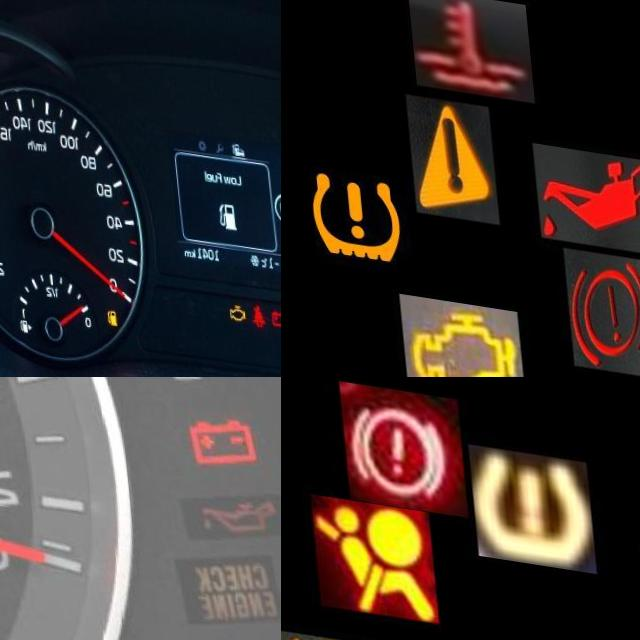Central Warning lamp: (403, 85, 495, 213)
Engine cooling system: (407, 0, 532, 89)
